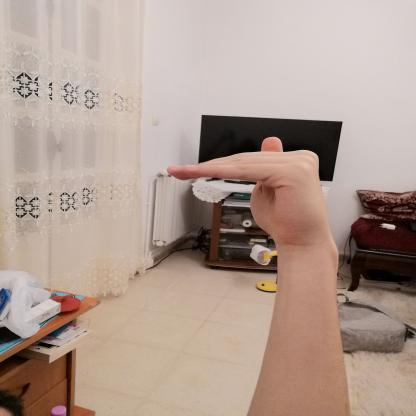KHAA: (152, 128, 352, 259)
